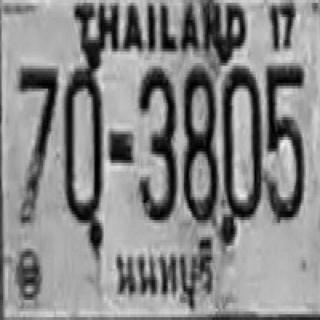N00: (221, 64, 261, 224), (63, 66, 102, 226)
N03: (137, 67, 175, 218)
N05: (265, 63, 303, 220)
N07: (16, 64, 56, 221)
N08: (182, 66, 216, 220)
P37: (109, 235, 221, 320)
